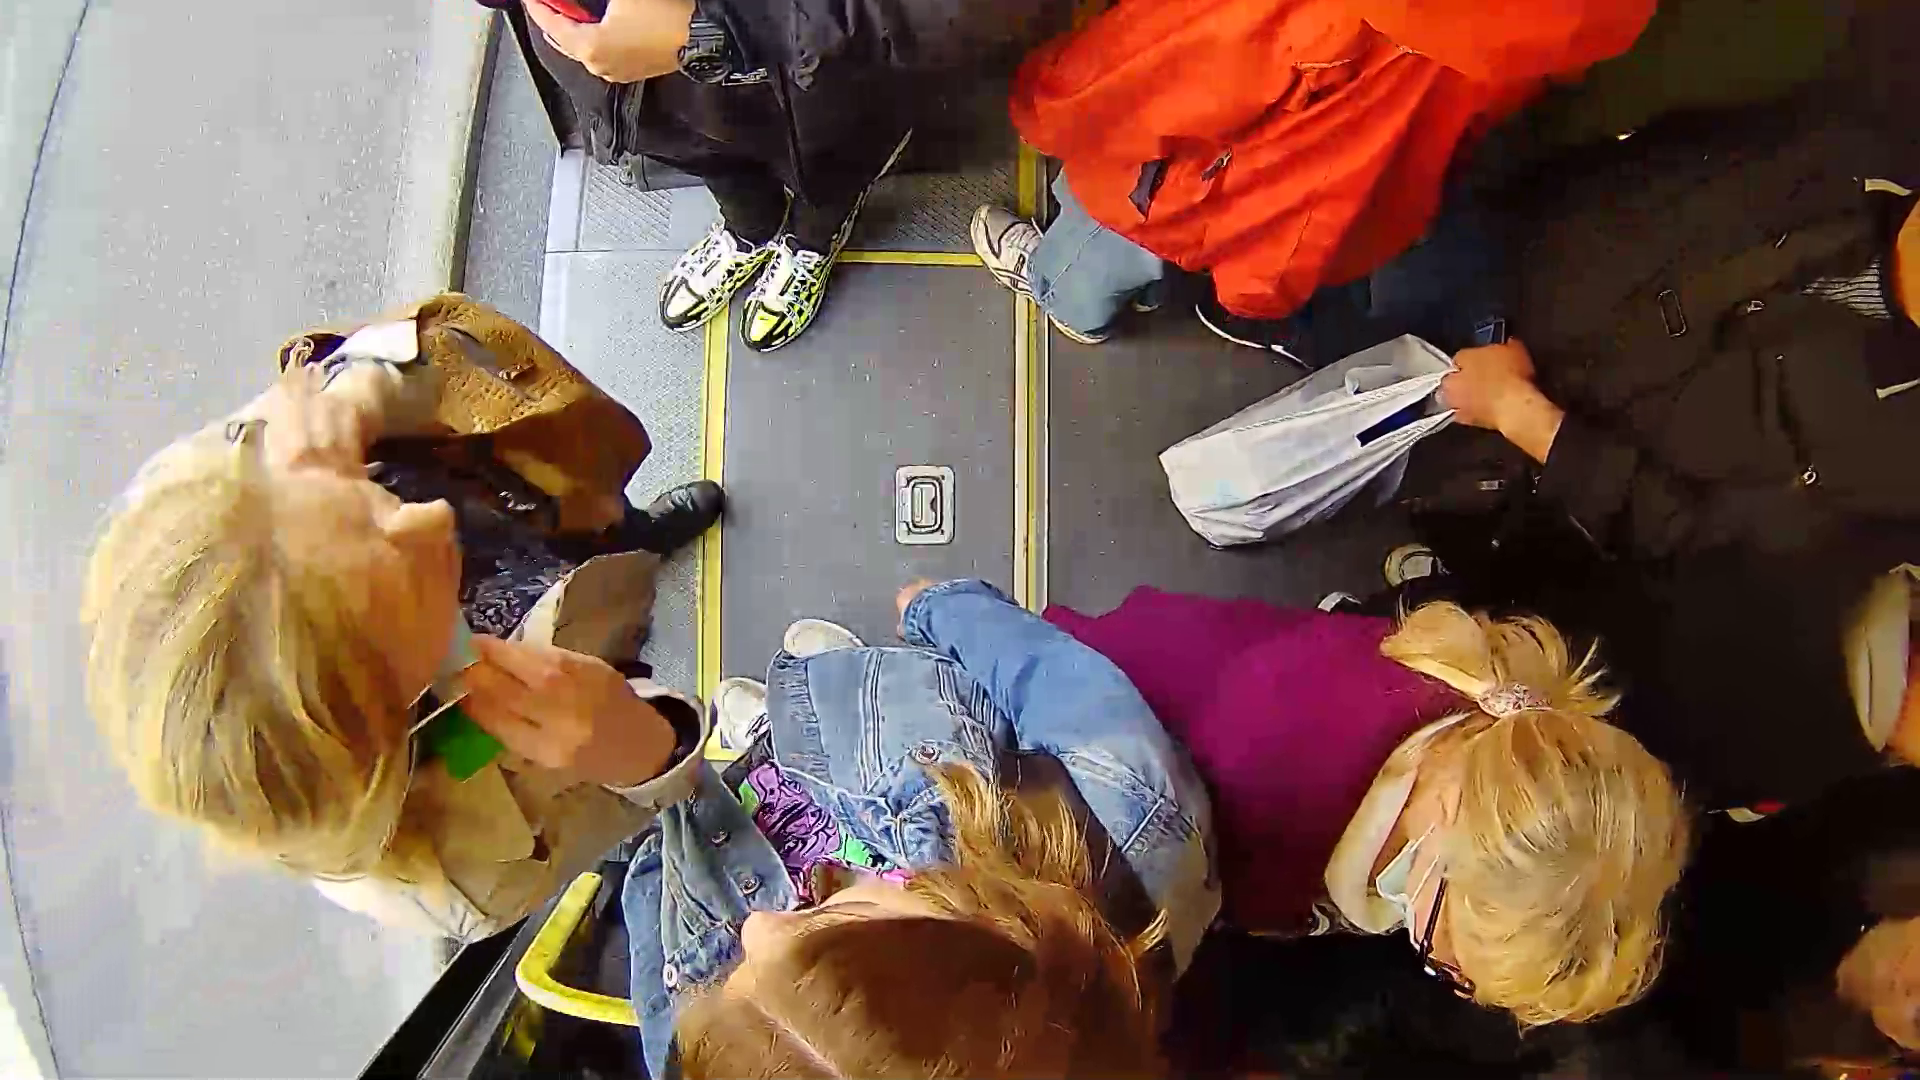person: (124, 237, 689, 865), (598, 595, 1265, 1050), (1056, 524, 1671, 991)
